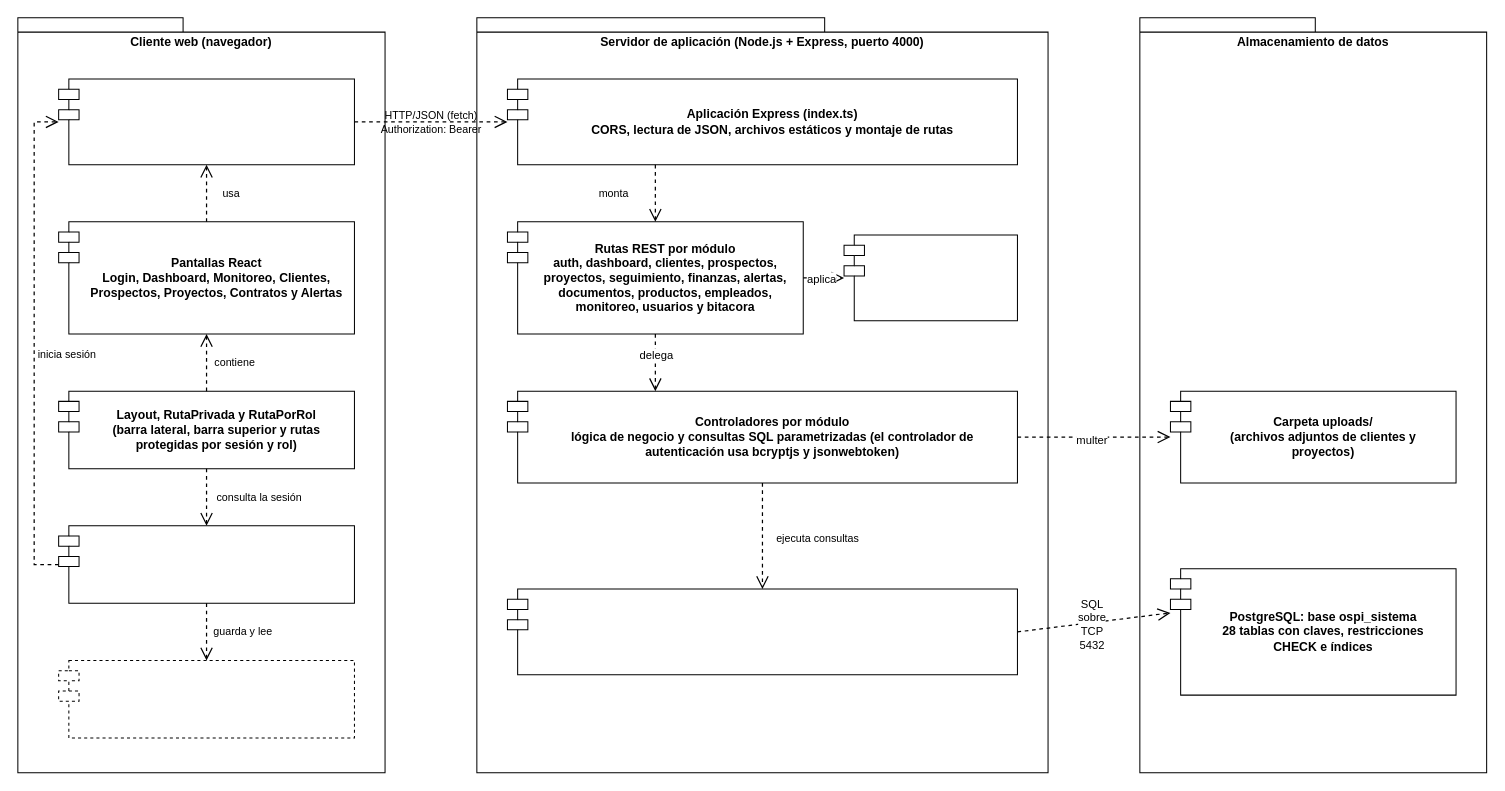
Image size: 1505x791. Some labels were removed from this diagram. Each missing label, with the centre of its shape:
Acceso a datos (db.ts) Pool de conexiones del paquete pg: point 761,631
Almacenamiento local del navegador (token y datos del usuario): point 206,698
AuthContexto (usuario, rol y estado de sesión): point 206,564
Middleware autenticar y autorizar (token JWT y rol): point 930,277
Servicios de acceso a la API (api.ts y un servicio por módulo): point 206,121
